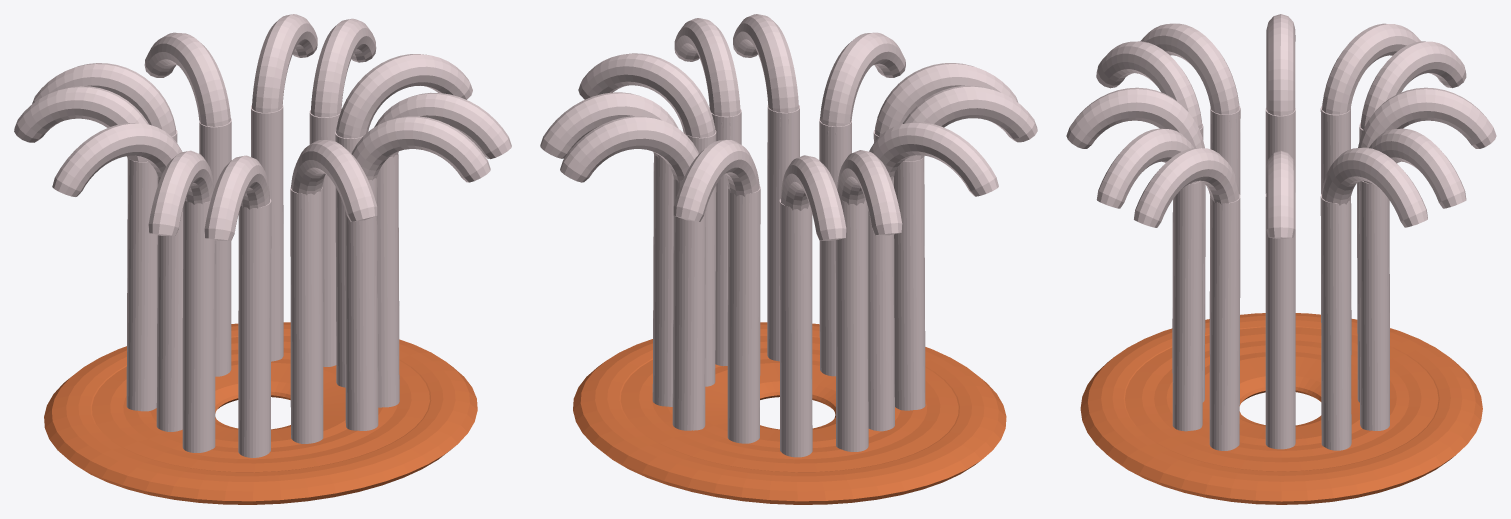
Rendered from clothingrackempty (1).fbx.
The picture shows the model from 3 angles, left to right: view 1: azimuth 30°, elevation 25°; view 2: azimuth 150°, elevation 25°; view 3: azimuth 270°, elevation 25°; orthographic projection.
Parts seen in each view (by area): view 1: Torus.001; view 2: Torus.001; view 3: Torus.001.
Boxes of the visible parts, left/top/right/bottom form: Torus.001: left=14, top=14, right=511, bottom=504; Torus.001: left=540, top=14, right=1037, bottom=504; Torus.001: left=1066, top=14, right=1496, bottom=504.
Size of the model in its own units: 1430 by 1093 by 1289.
